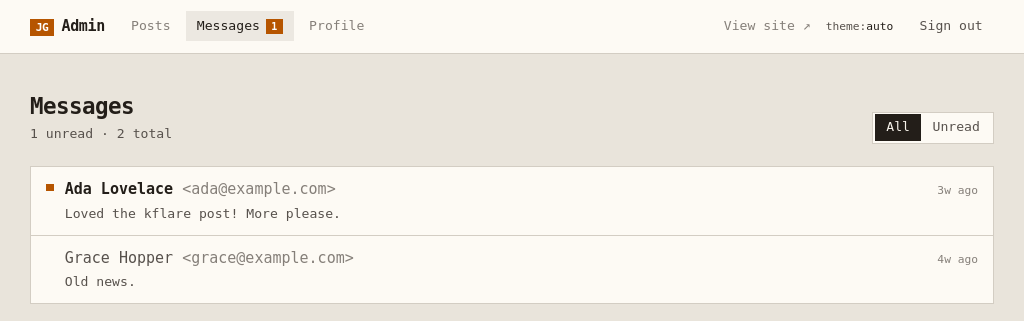
Scenario: admin messages inbox › filters to unread only
The image size is (1024, 321).
Click the tab "Unread" at (956, 128), box [921,114,991,141]
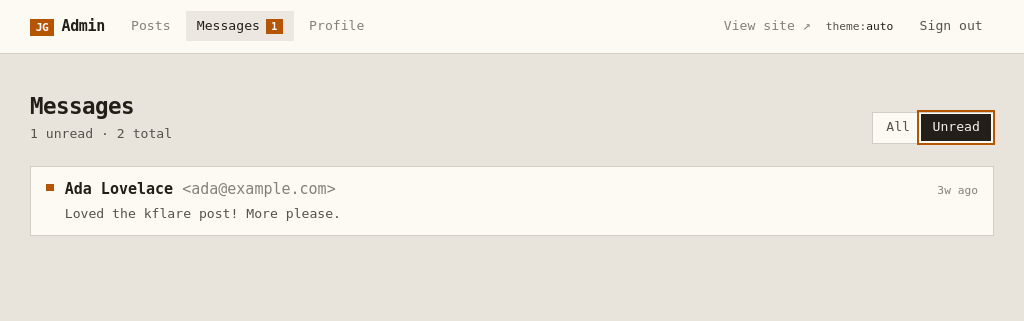
Expected: the text "Ada Lovelace <ada@example.com>" is shown, [65,178,336,201]
Now the button "Grace Hopper" is gone
